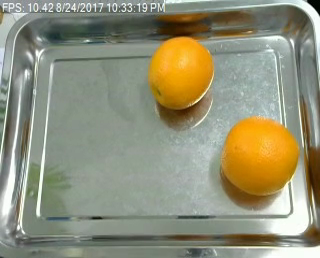Orange: (221, 115, 300, 195), (148, 37, 213, 110)
